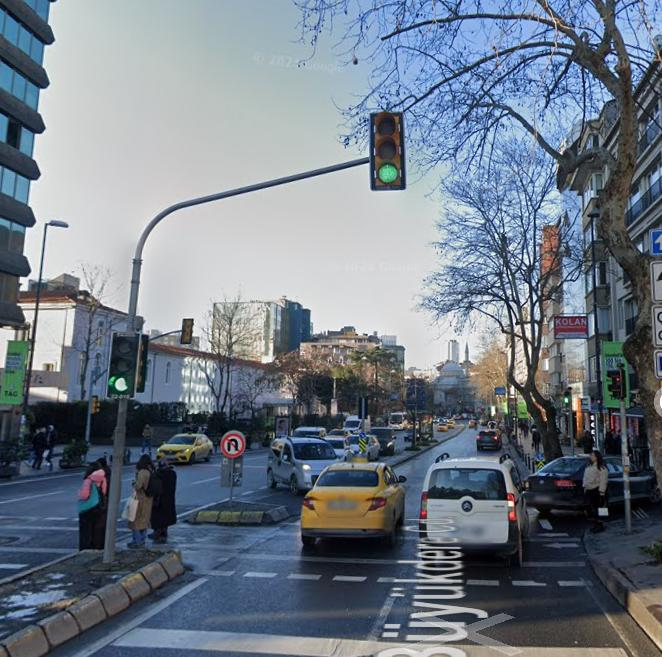greenlight: (368, 109, 405, 190), (109, 331, 139, 400), (561, 386, 572, 410)
